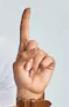up: (11, 7, 57, 91)
